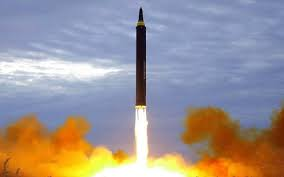ten_lua: (127, 6, 156, 111)
